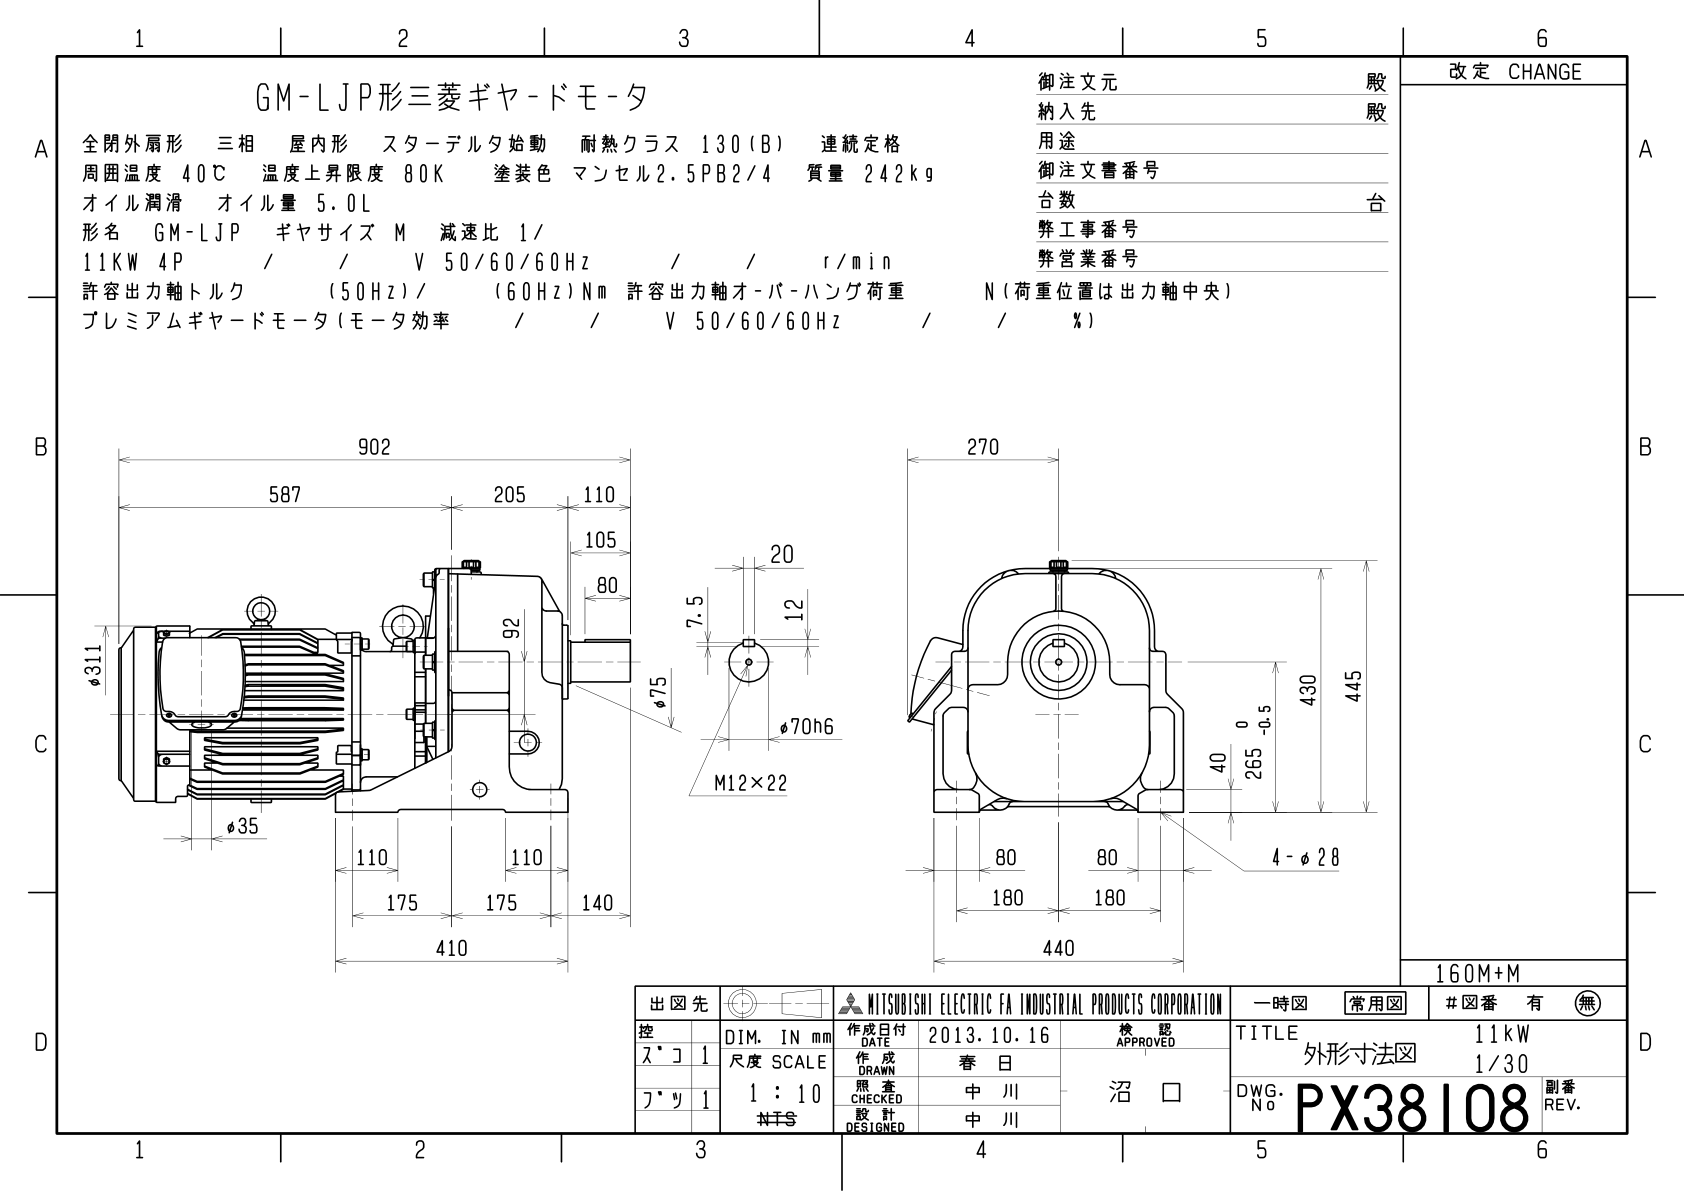GM_LJP_屋内_三相_脚: (17, 6, 1684, 1191)
